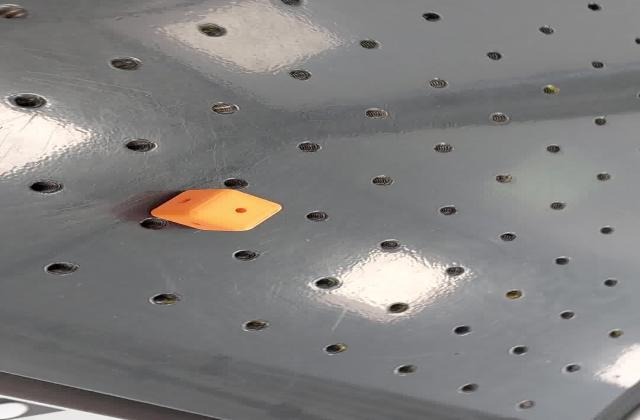cube: (142, 186, 286, 232)
